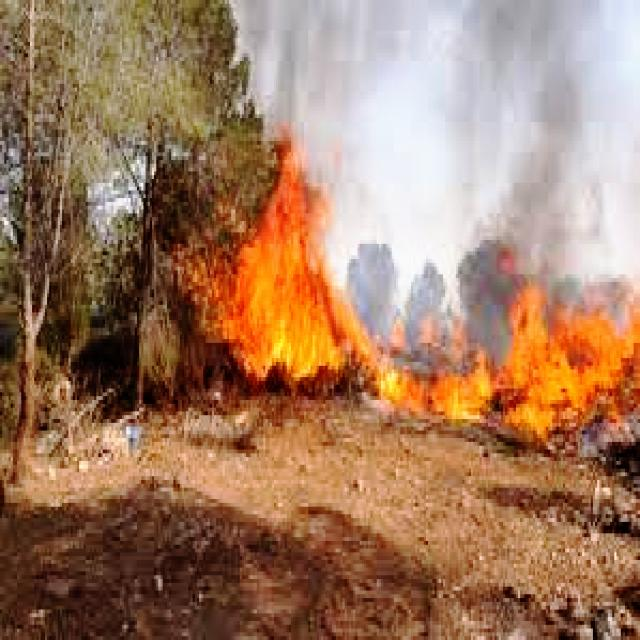api: (220, 131, 332, 392), (503, 294, 636, 447), (382, 361, 492, 428), (336, 305, 374, 380)
asap: (457, 10, 635, 286), (261, 1, 441, 115)
